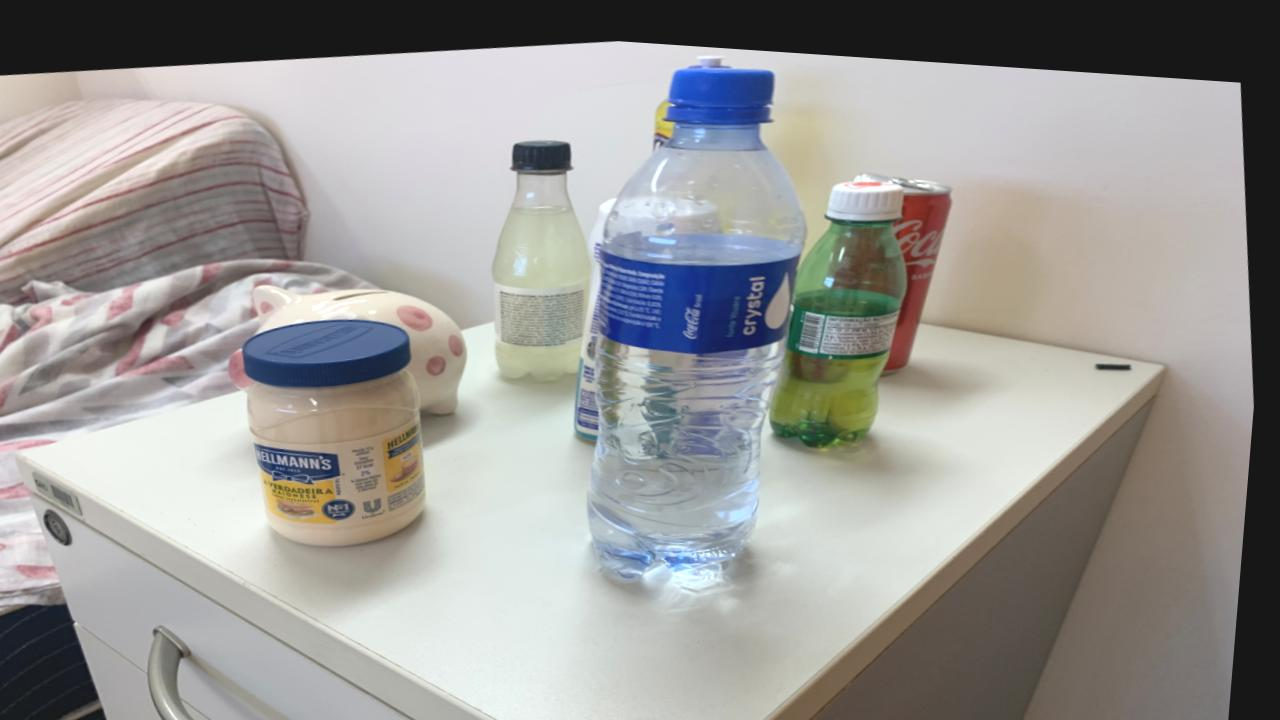Cleaner-Cleanup_Items: (580, 189, 618, 432)
Coke-Drinks: (855, 161, 954, 361)
Detergent-Cleanup_Items: (654, 91, 676, 141), (697, 45, 723, 58)
Guarana-Drinks: (776, 169, 911, 435)
Mayonnaise-Pantry_Items: (247, 314, 432, 541)
Pig_Safe-Miscellaneous: (257, 280, 472, 408), (233, 346, 259, 386)
Soda-Drinks: (496, 133, 595, 372)
Water_Bottle-Drinks: (595, 57, 808, 570)
